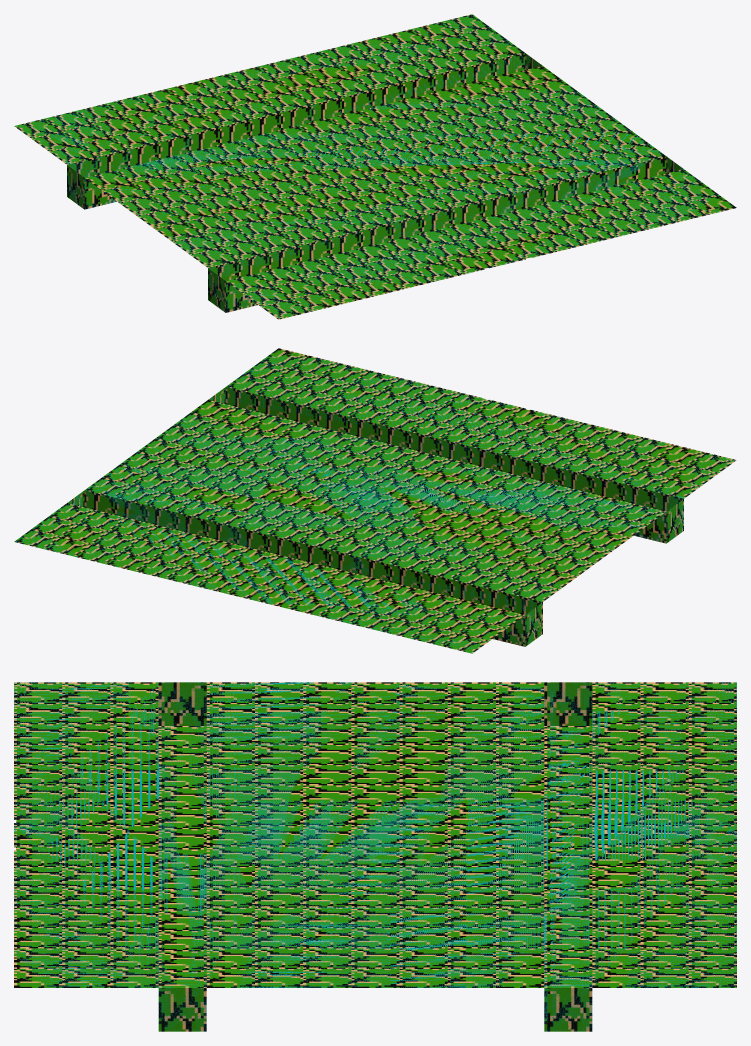
File: Dungeon Floor Water =.fbx
3 renders of one model, top to bottom at view 1: azimuth 30°, elevation 25°; view 2: azimuth 150°, elevation 25°; view 3: azimuth 270°, elevation 25°, orthographic. The views are drawn at different scales.
Parts seen in each view (by area): view 1: group_0; view 2: group_0; view 3: group_0.
Boxes of the visible parts, <box> form: group_0: <box>14,14,736,319</box>; group_0: <box>14,348,736,653</box>; group_0: <box>14,682,736,1031</box>.
Bounding box in the file's own units: 1500 × 100 × 1500.
